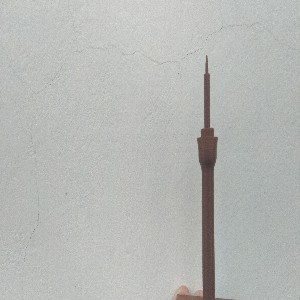solder: (196, 53, 219, 300)
